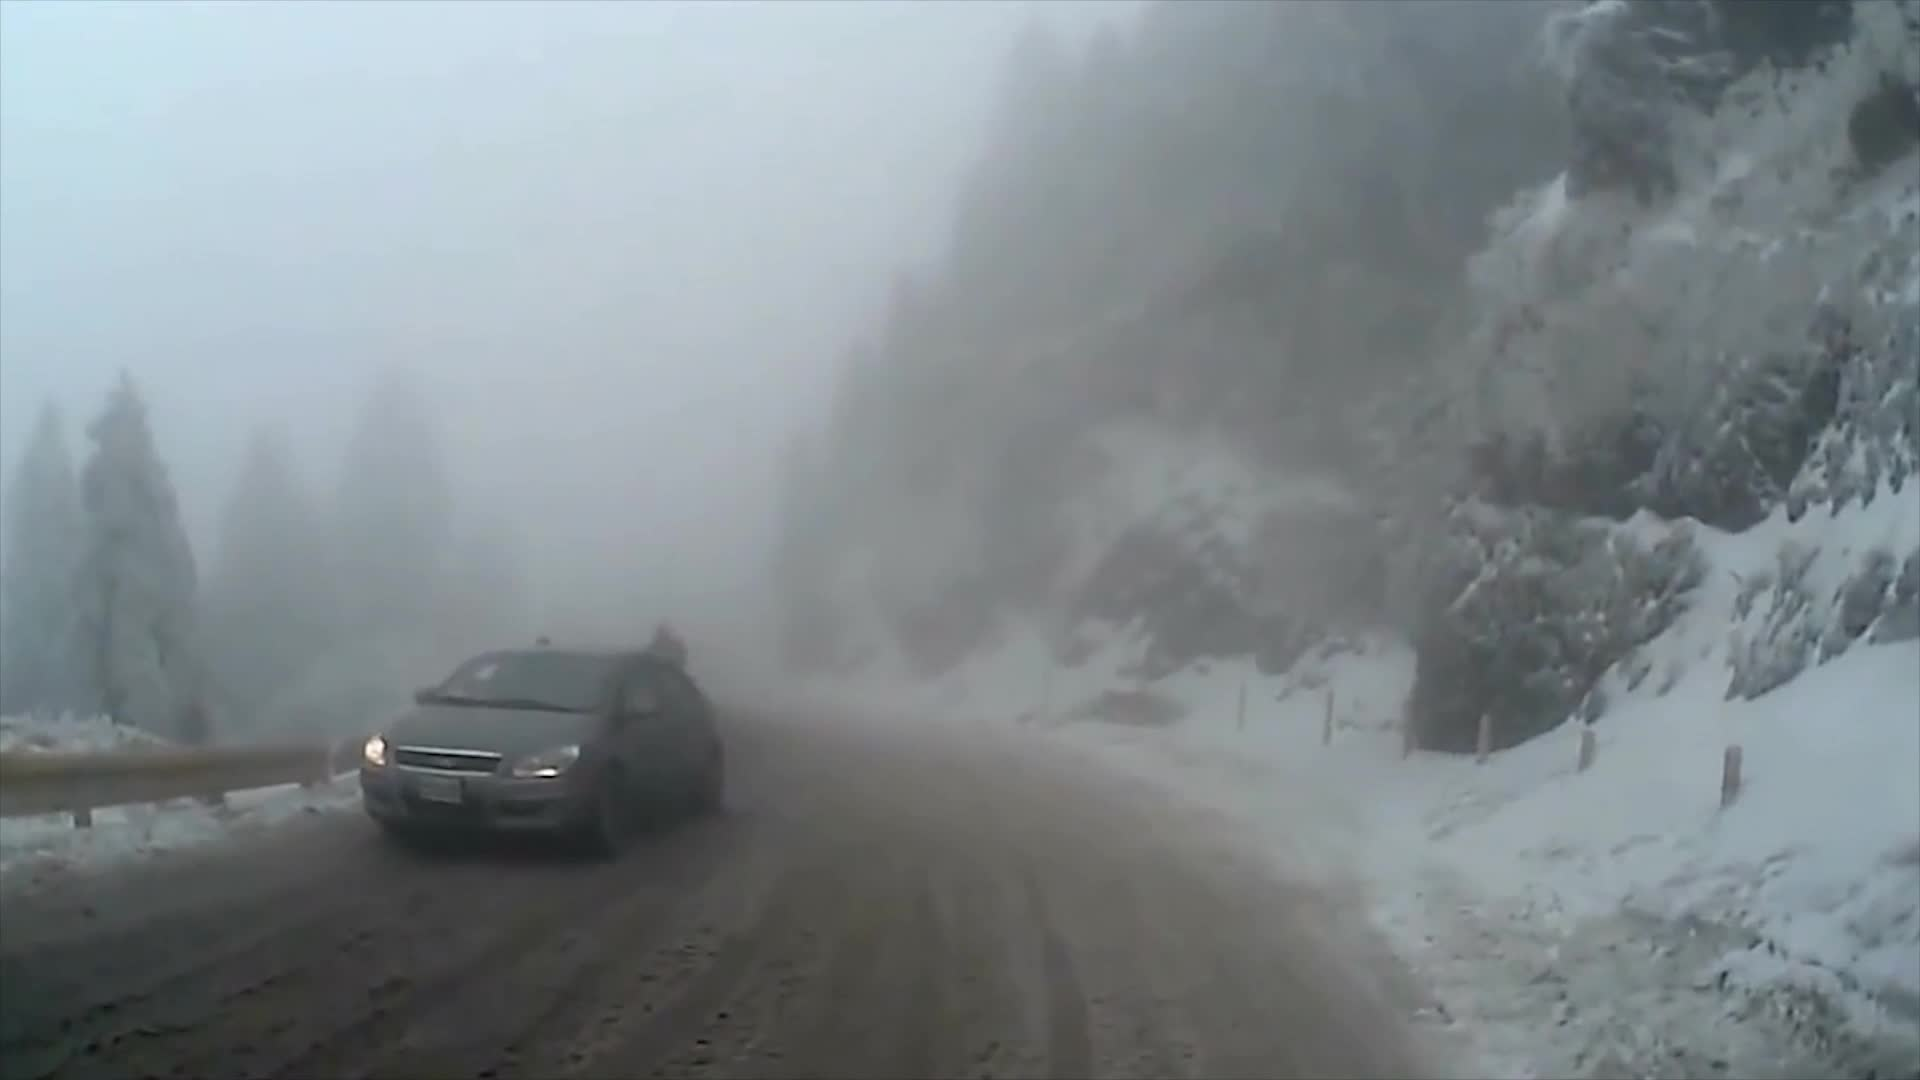vehicle: (355, 642, 719, 858)
